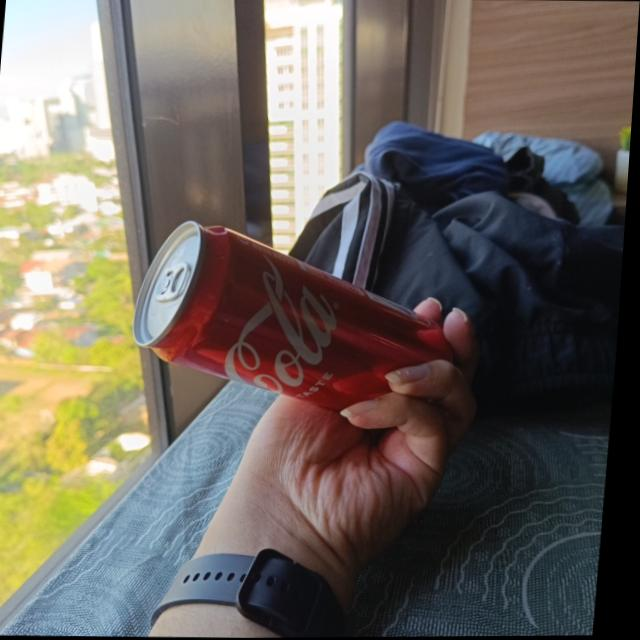coke: (135, 220, 478, 409)
